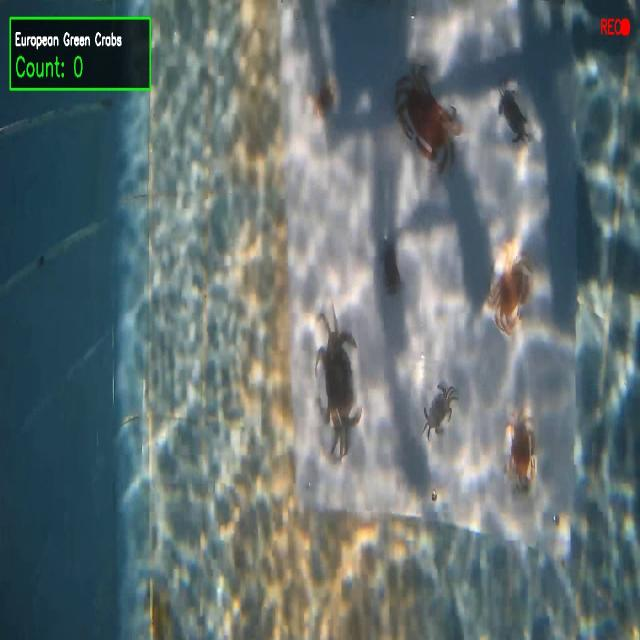European_Green_Crab: (302, 290, 369, 476), (413, 365, 463, 457), (493, 77, 536, 156)
